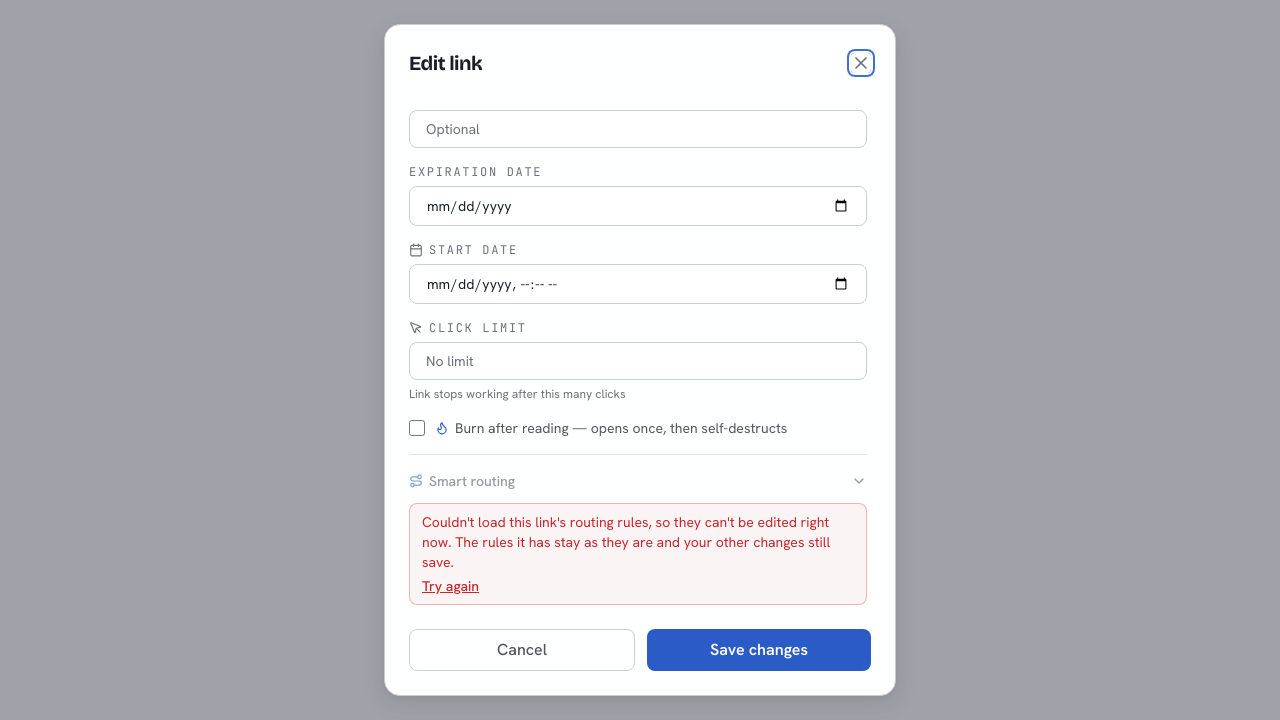
it: EditModal routing rules: loading › can retry loading the rules, after which they are editable again
The image size is (1280, 720).
(page scrolled)
Check: the message is shown, box 409,503 -> 867,605
Step 1. Click the button "Try again" → (451, 586), box 422,576 -> 479,596
(page scrolled)
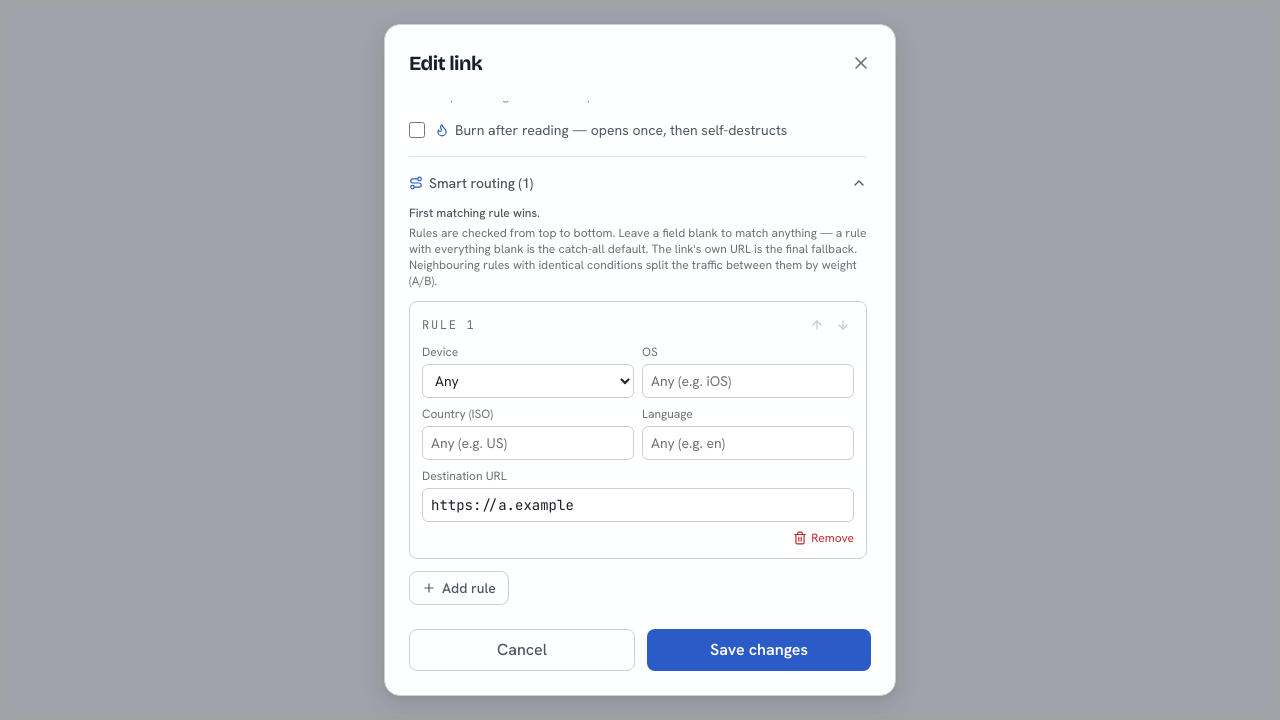
Check: the text "Smart routing (1)" is shown, box 409,173 -> 533,193
Check: the message "Couldn't load this link's routing rules, so they can't be edited right now. The" is gone
Check: the button "Smart routing (1)" is enabled, box 409,173 -> 867,193
